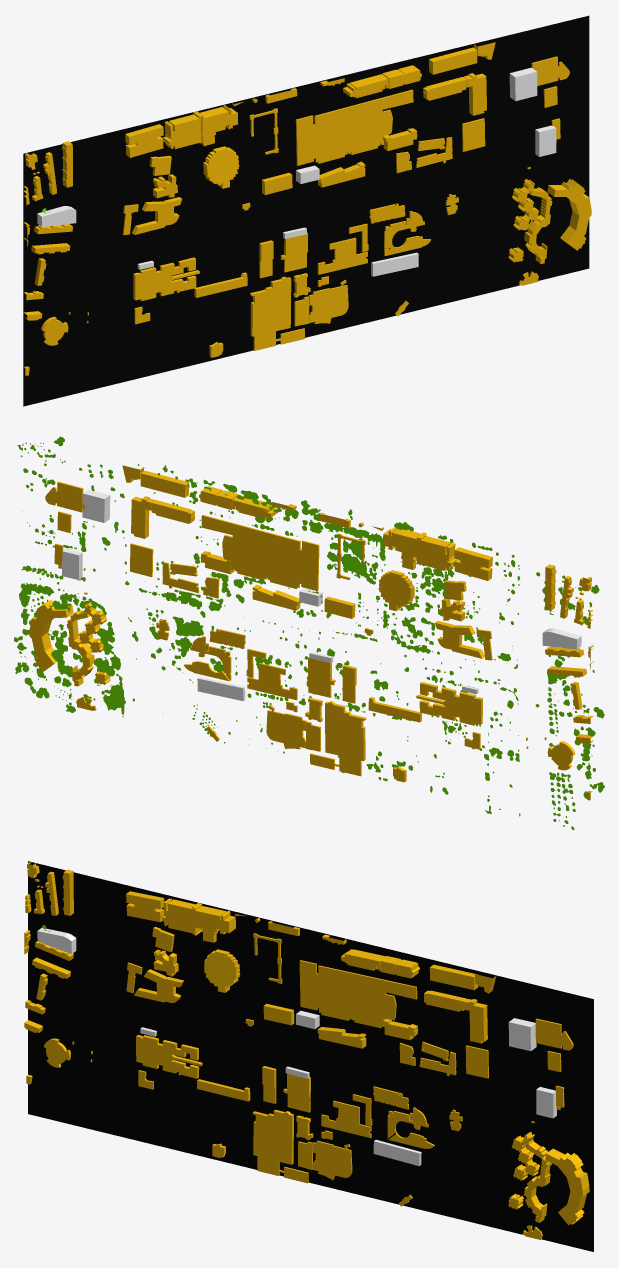
File: new_low_buildings_01.glb
3 renders of one model, top to bottom at view 1: azimuth 30°, elevation 25°; view 2: azimuth 150°, elevation 25°; view 3: azimuth 330°, elevation 25°, orthographic.
Visible parts, largest first — view 1: Layer 04, existing_building - Copy, new buildings; view 2: existing_building - Copy, treesurface, new buildings; view 3: Layer 04, existing_building - Copy, new buildings.
Part boxes in pixels (x1=…): Layer 04: x1=23, y1=15, x2=589, y2=406; existing_building - Copy: x1=23, y1=42, x2=591, y2=375; new buildings: x1=37, y1=67, x2=556, y2=276; existing_building - Copy: x1=29, y1=465, x2=593, y2=800; treesurface: x1=14, y1=436, x2=604, y2=830; new buildings: x1=62, y1=489, x2=581, y2=701; Layer 04: x1=28, y1=861, x2=593, y2=1251; existing_building - Copy: x1=24, y1=862, x2=589, y2=1239; new buildings: x1=37, y1=928, x2=556, y2=1165.
Bounding box in the file's own units: 1035 × 458 × 20.85.
